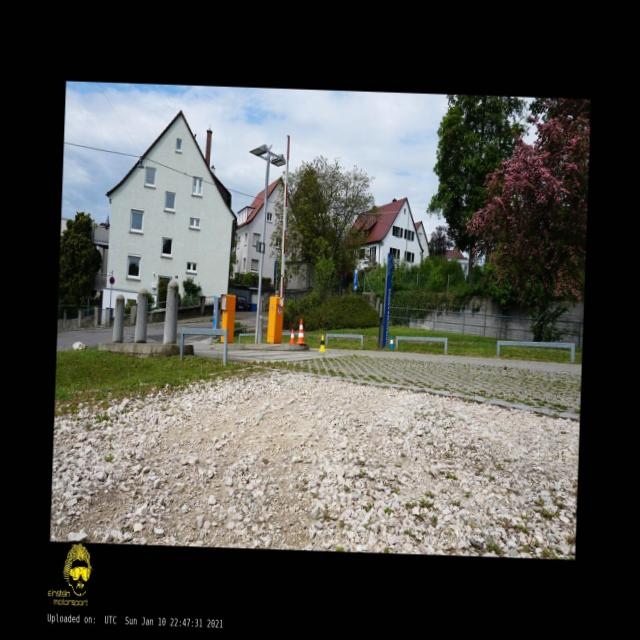blue_cone: (390, 335, 394, 348)
large_orange_cone: (296, 318, 306, 344)
orange_cone: (289, 328, 295, 344)
yellow_cone: (318, 334, 326, 352)
